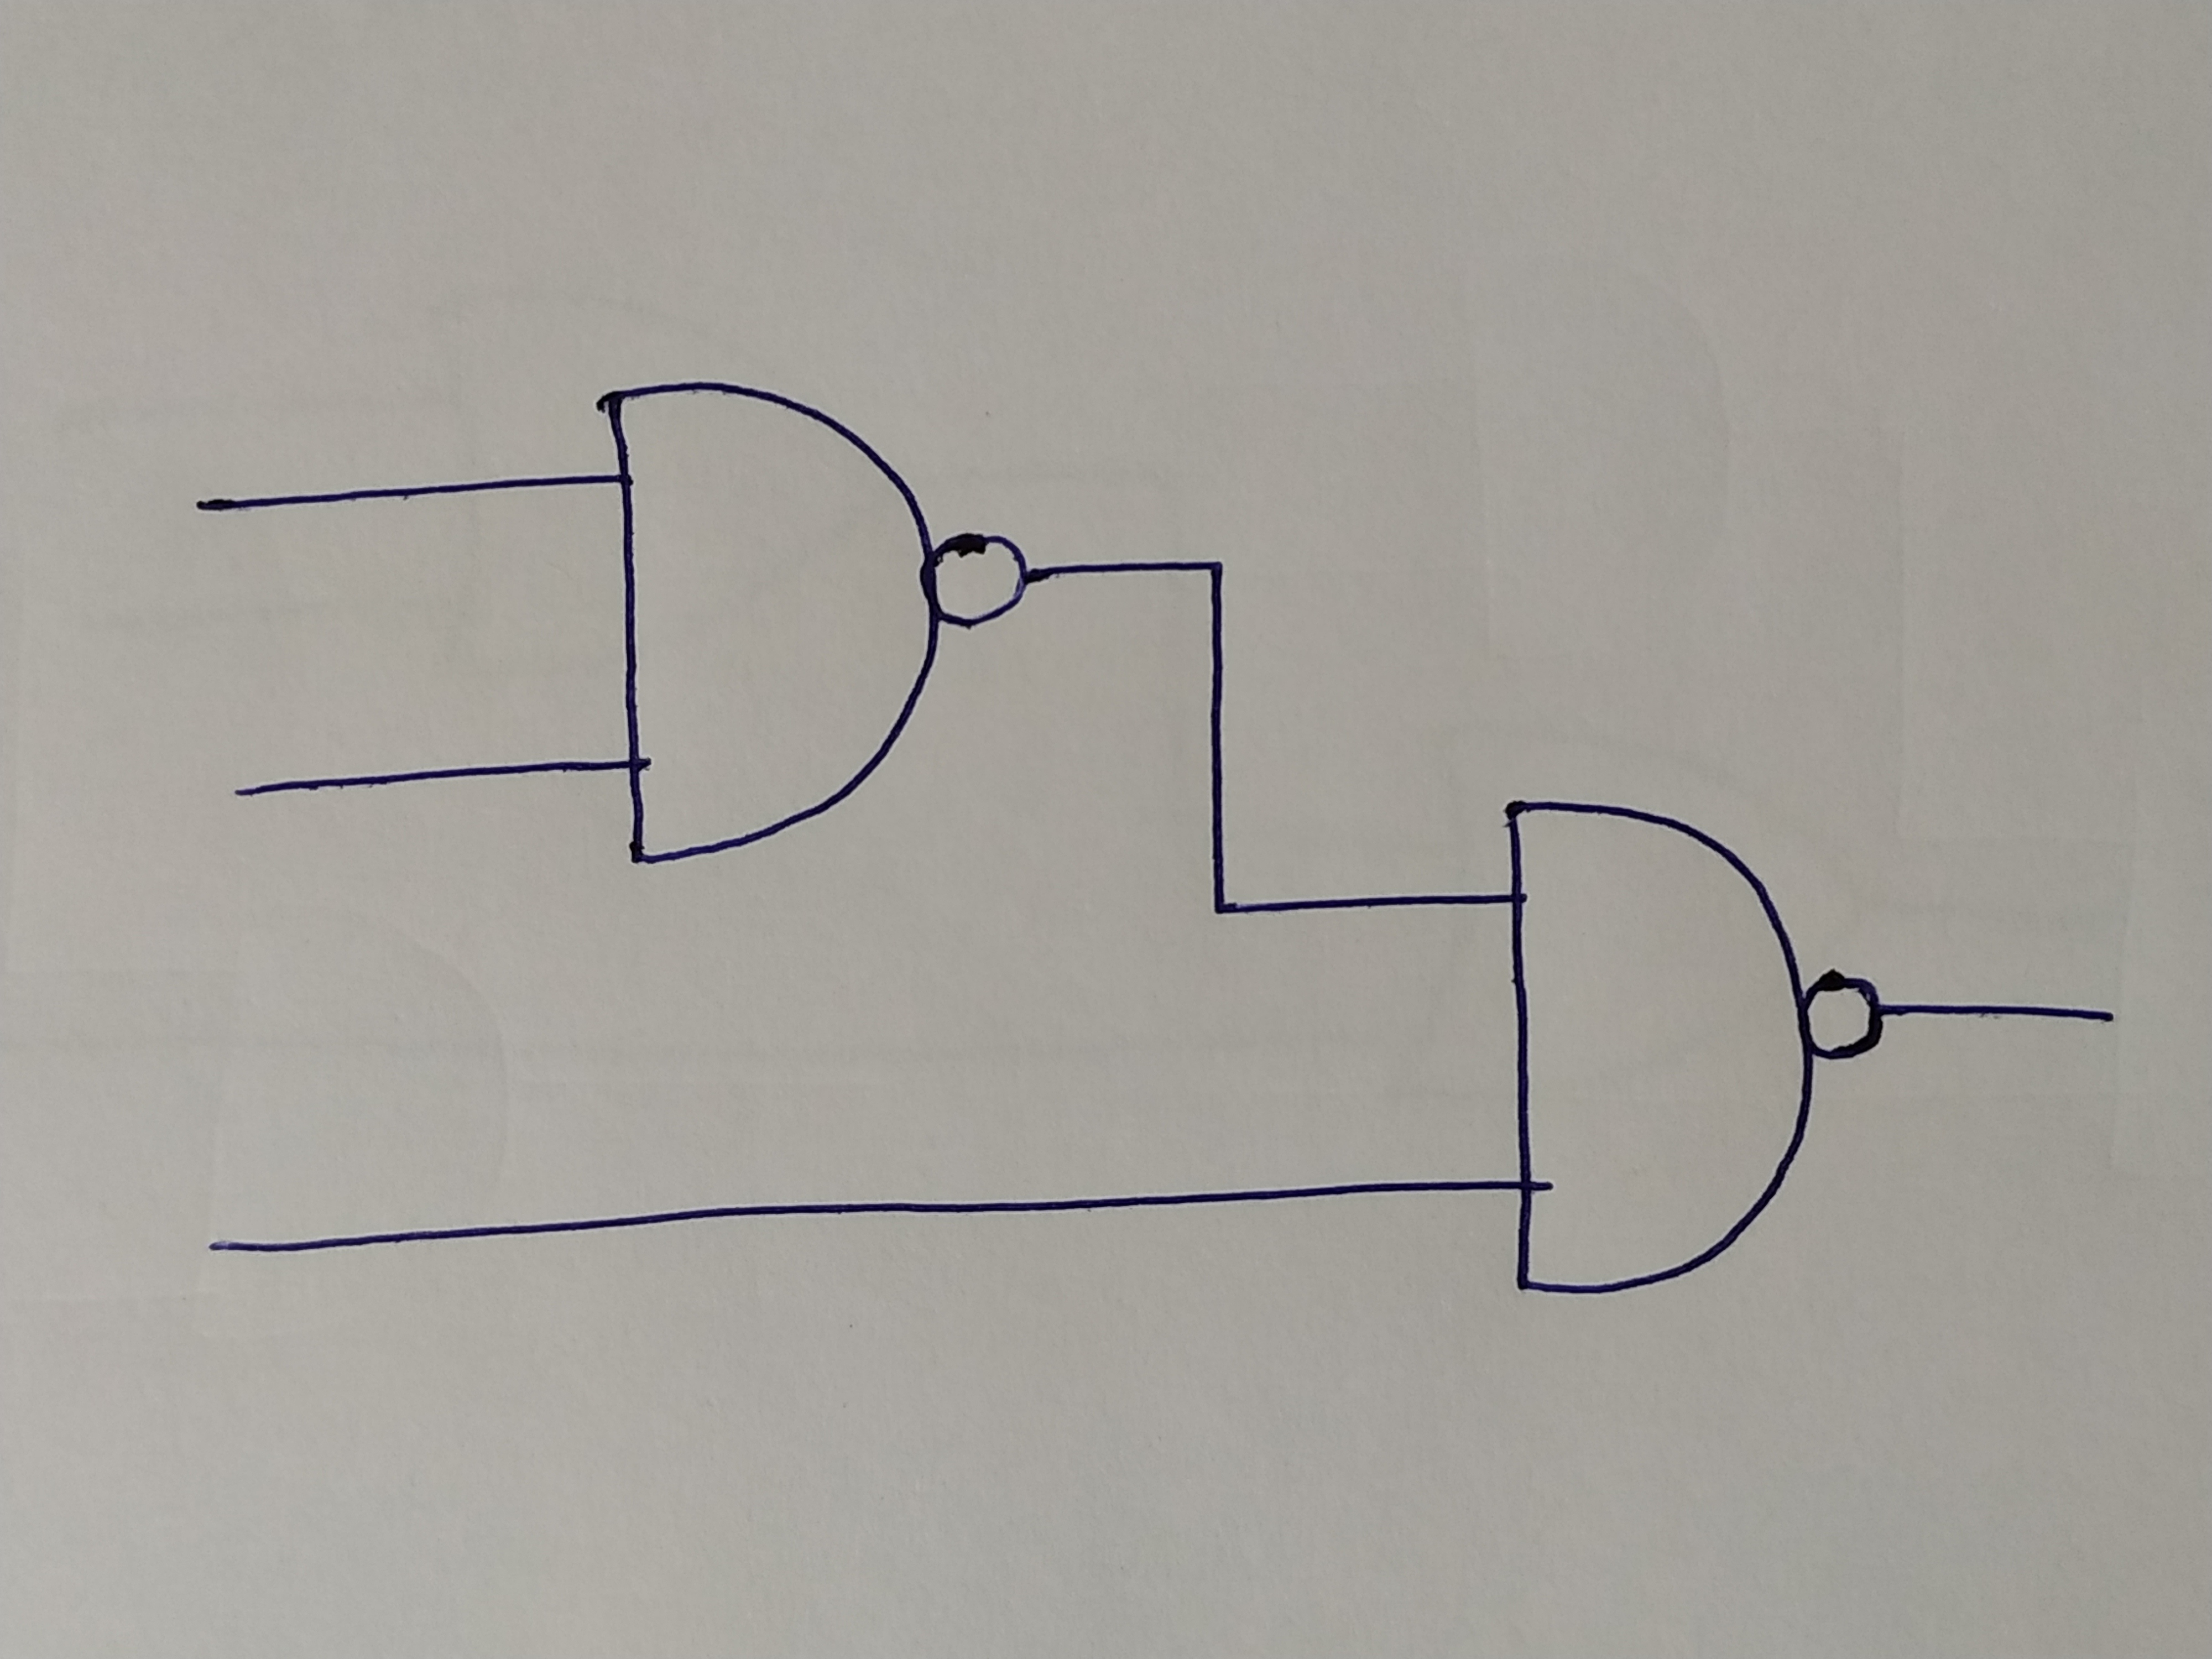and: (592, 376, 930, 864), (1503, 795, 1811, 1303)
not: (925, 535, 1024, 629), (1804, 974, 1881, 1060)
